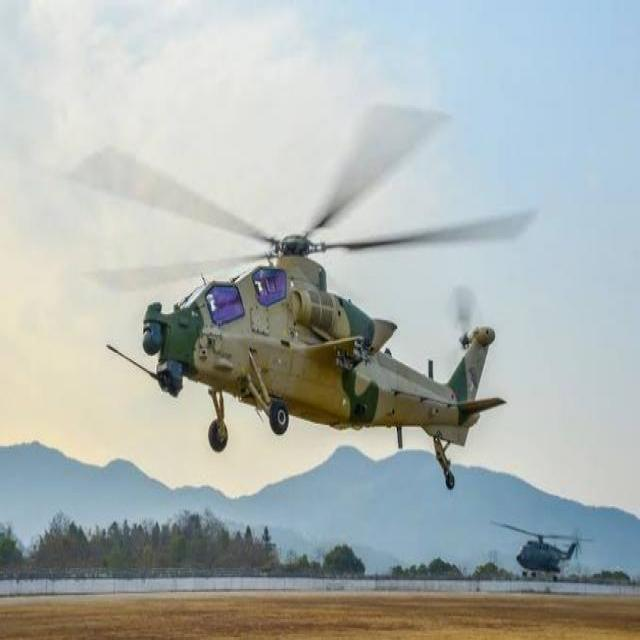MIL_HELO: (71, 98, 517, 478)
